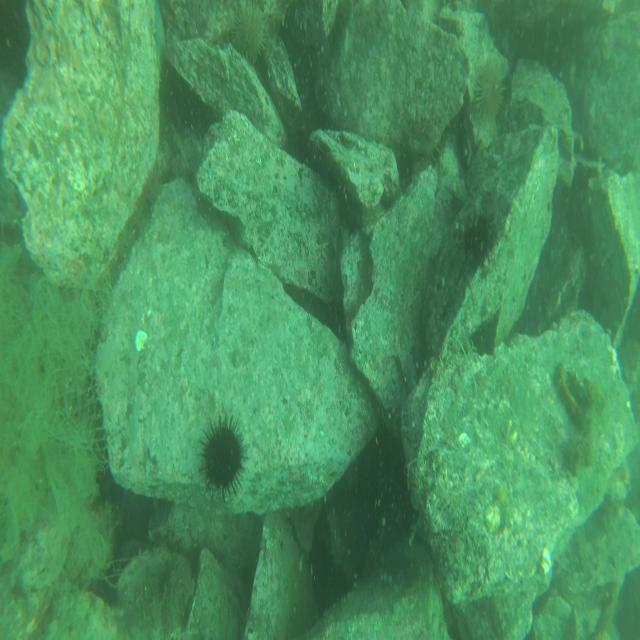echinus: (202, 421, 242, 496), (234, 2, 267, 63), (463, 212, 492, 265)
starfish: (151, 1, 166, 72)
